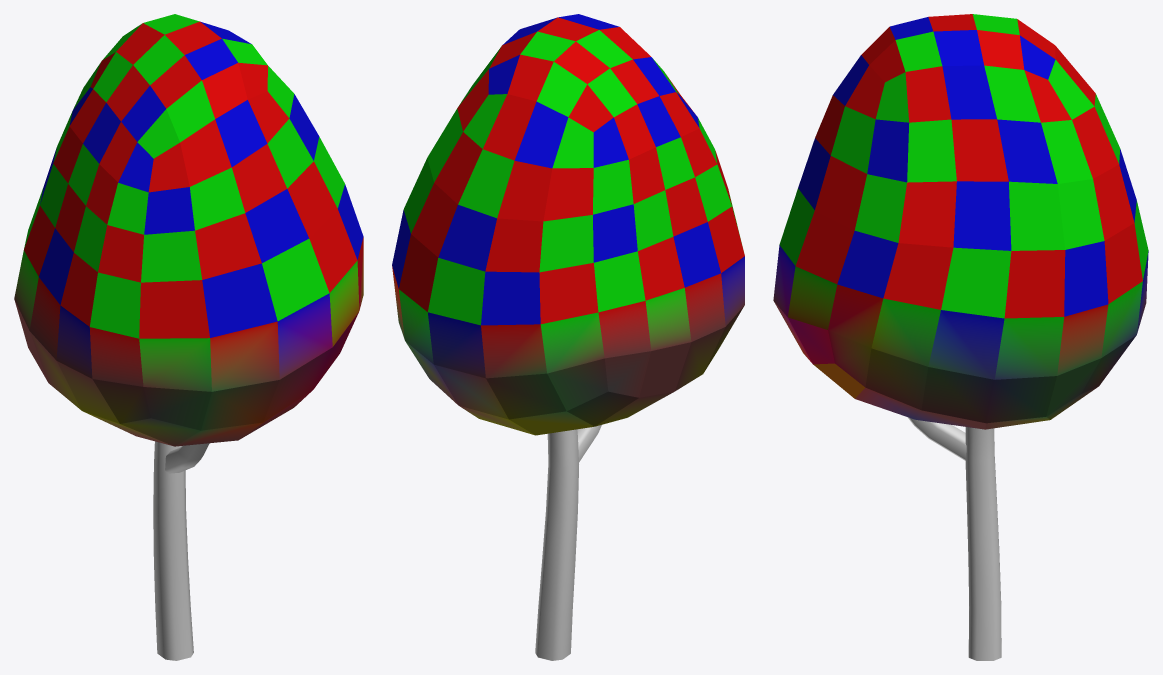
File: Tree_C_02.fbx
3 views of the same model, side by side, from view 1: azimuth 30°, elevation 25°; view 2: azimuth 150°, elevation 25°; view 3: azimuth 270°, elevation 25° (orthographic). The views are drawn at different scales.
Visible parts, largest first — view 1: Tree_C_02_Leaves, Tree_C_02_Trunk; view 2: Tree_C_02_Leaves, Tree_C_02_Trunk; view 3: Tree_C_02_Leaves, Tree_C_02_Trunk.
Boxes of the visible parts, bbox=[...] form: Tree_C_02_Leaves: bbox=[14, 14, 363, 446]; Tree_C_02_Trunk: bbox=[153, 441, 209, 660]; Tree_C_02_Leaves: bbox=[392, 14, 744, 435]; Tree_C_02_Trunk: bbox=[535, 425, 601, 660]; Tree_C_02_Leaves: bbox=[773, 14, 1148, 429]; Tree_C_02_Trunk: bbox=[907, 417, 1001, 660].
Bounding box in the file's own units: 1.73 × 3.58 × 1.92.
